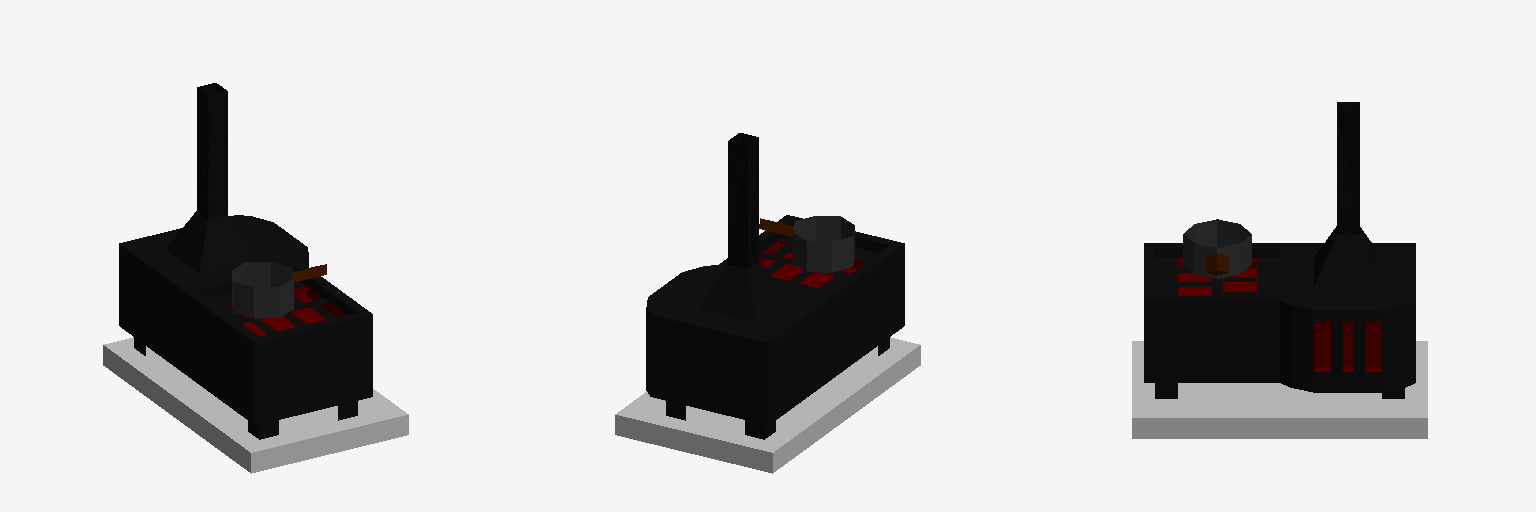
The model's file is range.obj.
3 views of the same model, side by side, from view 1: azimuth 30°, elevation 25°; view 2: azimuth 150°, elevation 25°; view 3: azimuth 270°, elevation 25° (orthographic).
Size of the model in its own units: 128 by 224 by 208.